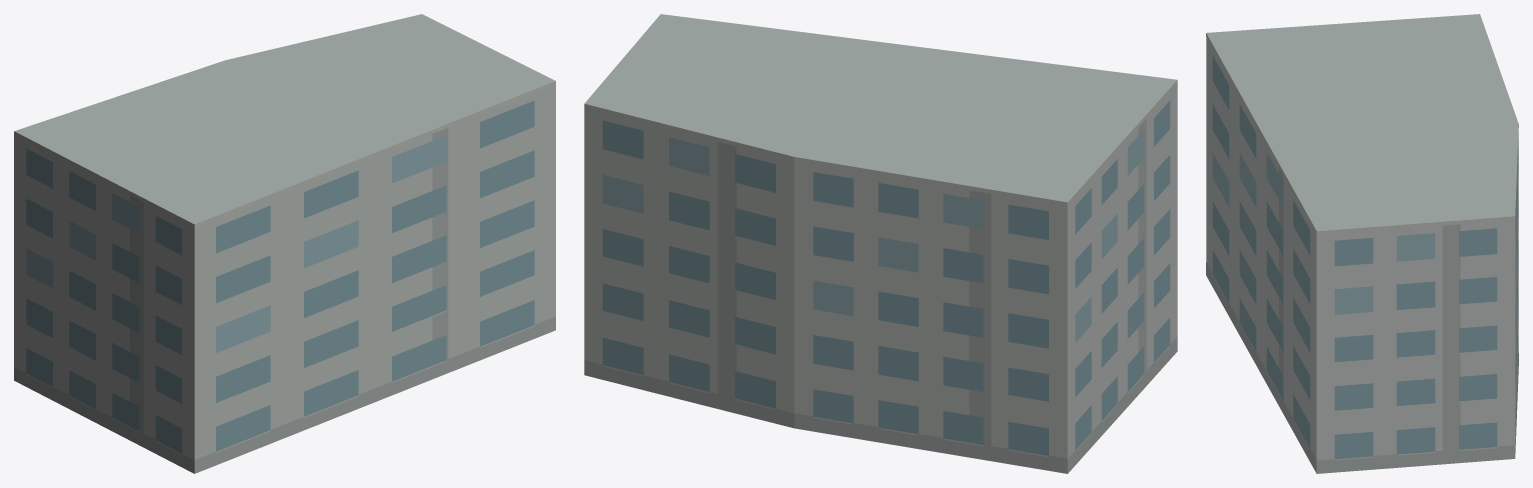
The model's file is survey-upis-32753189.glb.
3 views of the same model, side by side, from view 1: azimuth 30°, elevation 25°; view 2: azimuth 150°, elevation 25°; view 3: azimuth 270°, elevation 25° (orthographic). The views are drawn at different scales.
Visible parts, largest first — view 1: survey-upis-32753189.tmp; view 2: survey-upis-32753189.tmp; view 3: survey-upis-32753189.tmp.
Part boxes in pixels (x1=…): survey-upis-32753189.tmp: x1=14, y1=14, x2=555, y2=473; survey-upis-32753189.tmp: x1=584, y1=14, x2=1177, y2=473; survey-upis-32753189.tmp: x1=1206, y1=14, x2=1518, y2=473.
Size of the model in its own units: 29.3 by 15.25 by 17.81.
